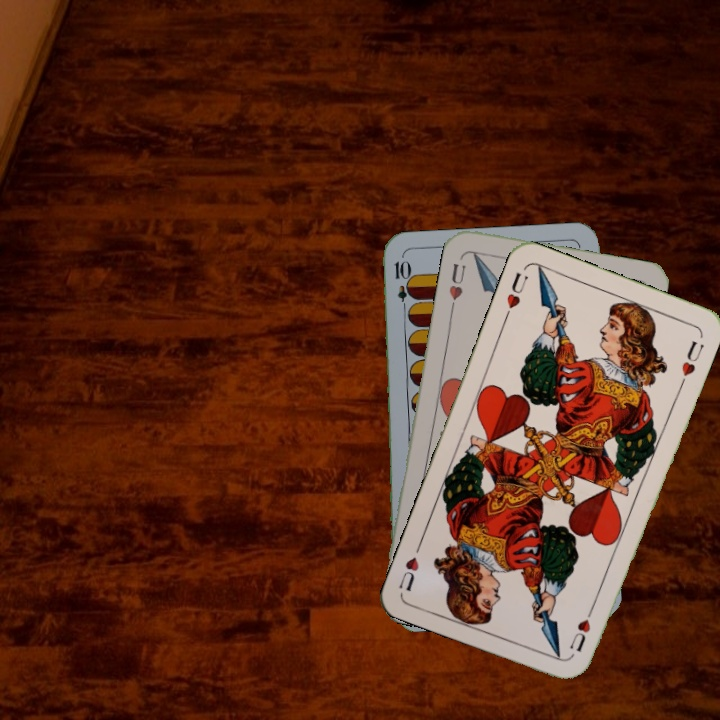E10: (390, 256, 411, 316)
HU: (566, 601, 598, 654), (500, 268, 530, 322), (445, 259, 468, 303)
